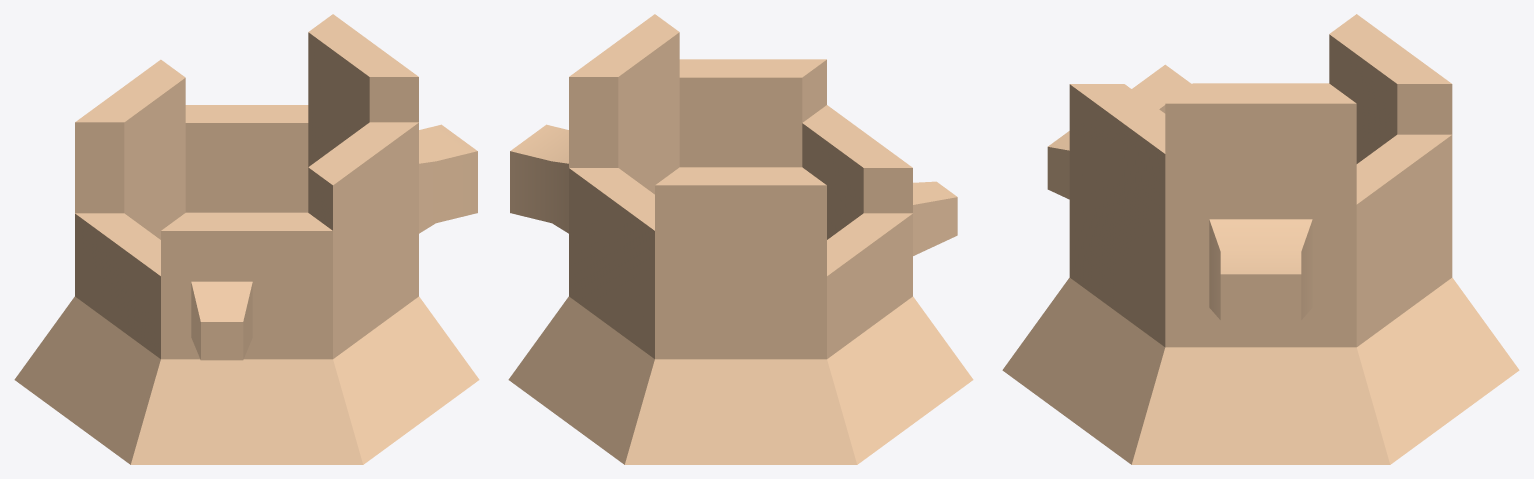
Rendered from treeStump_old.glb.
3 views of the same model, side by side, from view 1: azimuth 30°, elevation 25°; view 2: azimuth 150°, elevation 25°; view 3: azimuth 270°, elevation 25° (orthographic). The views are drawn at different scales.
Visible parts, largest first — view 1: treeStump_old; view 2: treeStump_old; view 3: treeStump_old.
Part boxes in pixels (bbox=[...]): treeStump_old: bbox=[14, 14, 479, 464]; treeStump_old: bbox=[508, 14, 973, 464]; treeStump_old: bbox=[1002, 14, 1519, 464].
Bounding box in the file's own units: 0.3565 × 0.2665 × 0.371.
